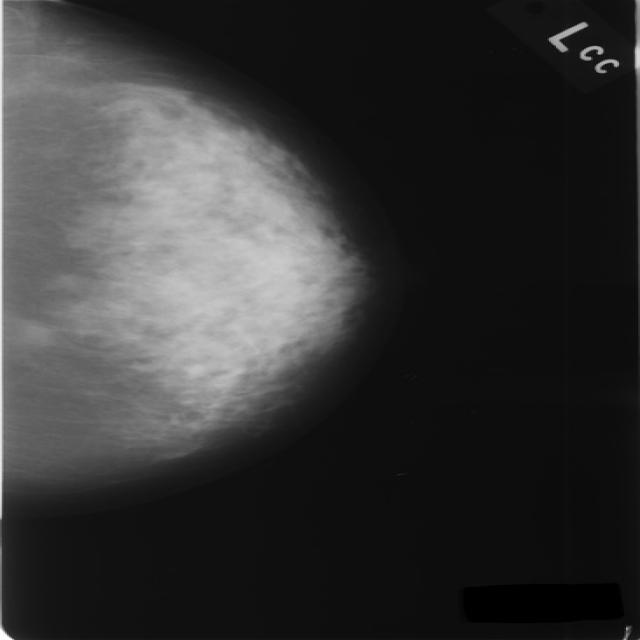tumour: (15, 318, 50, 348)
